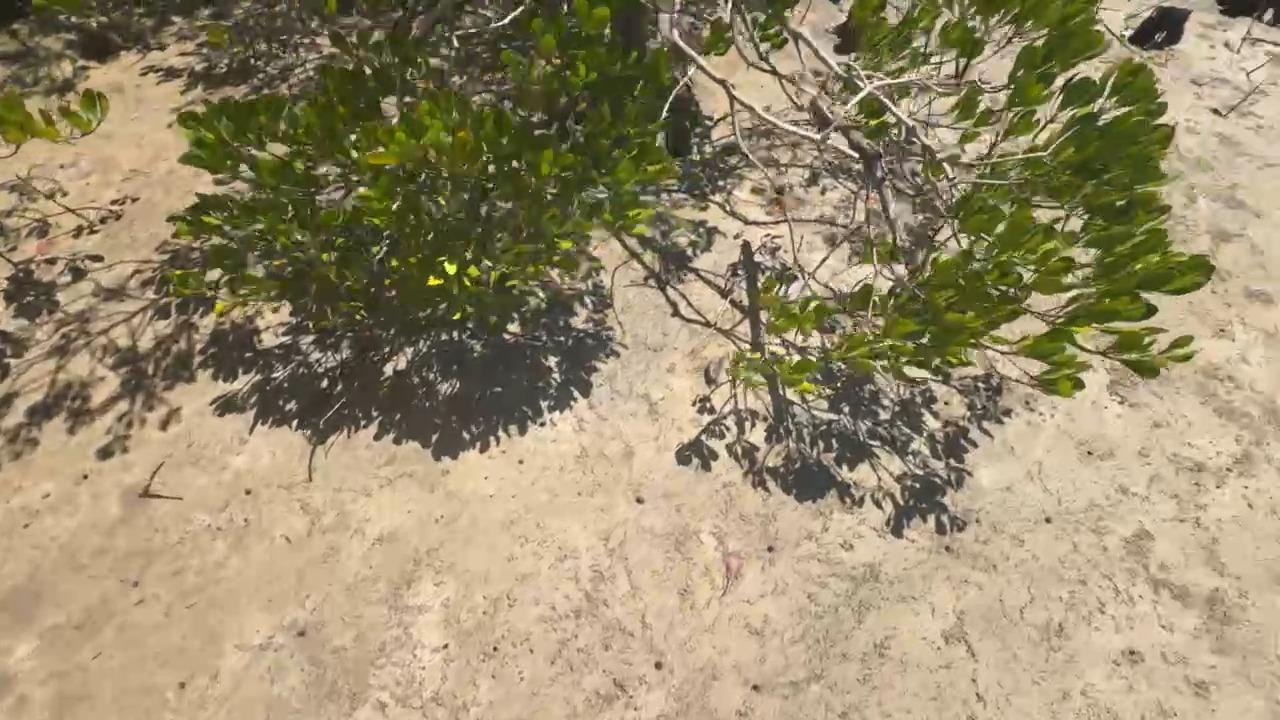Tree: (1224, 81, 1262, 117), (138, 463, 164, 498), (1247, 58, 1272, 74)
